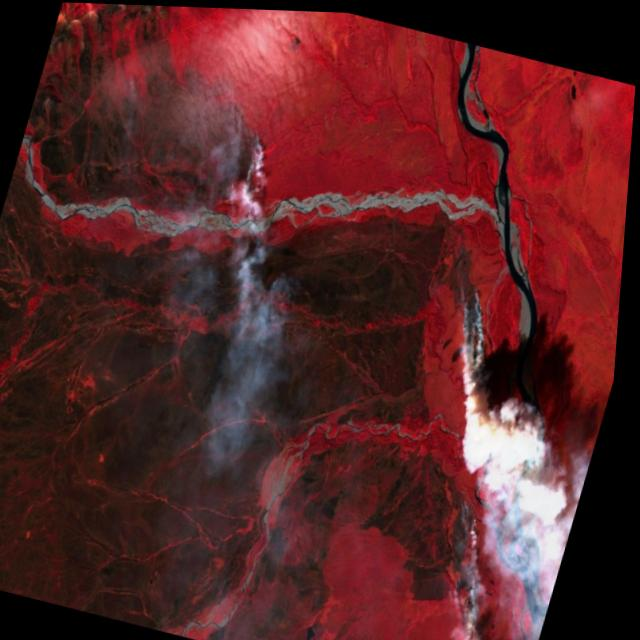fire: (164, 56, 296, 229), (416, 486, 523, 638), (427, 264, 525, 402)
